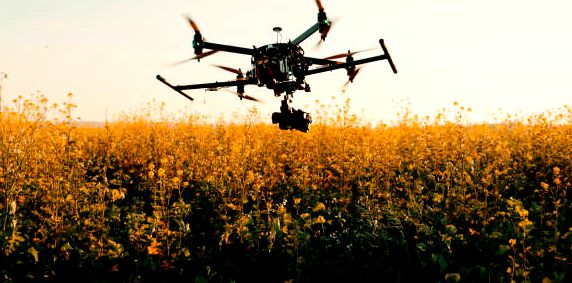Drone: (154, 0, 399, 136)
